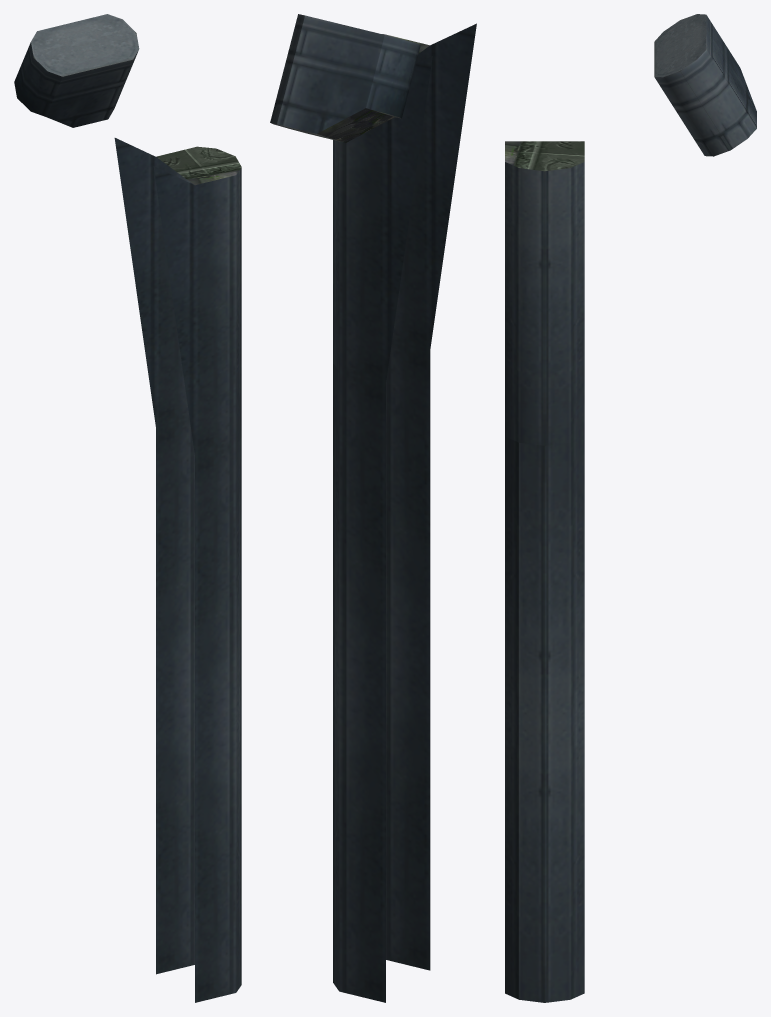
The model's file is tlfb2_zhuzi03.FBX.
3 views of the same model, side by side, from view 1: azimuth 30°, elevation 25°; view 2: azimuth 150°, elevation 25°; view 3: azimuth 270°, elevation 25° (orthographic). The views are drawn at different scales.
Parts seen in each view (by area): view 1: tlfb2_zhuzi03b, tlfb2_zhuzi03a; view 2: tlfb2_zhuzi03b, tlfb2_zhuzi03a; view 3: tlfb2_zhuzi03b, tlfb2_zhuzi03a.
Part boxes in pixels (x1,y1,x2,y2): tlfb2_zhuzi03b: (114,138,241,1002); tlfb2_zhuzi03a: (14,14,139,127); tlfb2_zhuzi03b: (333,23,476,1002); tlfb2_zhuzi03a: (270,14,420,142); tlfb2_zhuzi03b: (505,141,584,1002); tlfb2_zhuzi03a: (654,14,756,156).
Size of the model in its own units: 315 by 2037 by 500.
